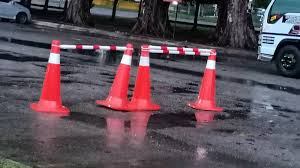car: (1, 1, 32, 25)
cone: (29, 40, 70, 113), (95, 41, 135, 111), (188, 48, 226, 111), (134, 44, 163, 111)
